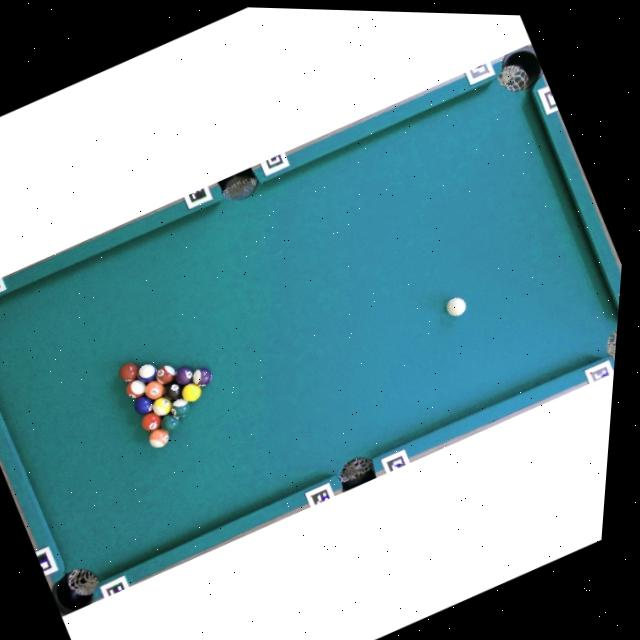cue ball: (441, 292, 471, 320)
other: (166, 394, 195, 421), (132, 360, 161, 387), (145, 424, 173, 451), (115, 358, 143, 385), (122, 375, 150, 401), (157, 410, 185, 436), (151, 360, 179, 386), (141, 376, 169, 402), (137, 408, 165, 434), (188, 364, 215, 390), (171, 362, 198, 388), (178, 379, 205, 405), (130, 392, 157, 418), (148, 393, 175, 419), (160, 379, 187, 403)
